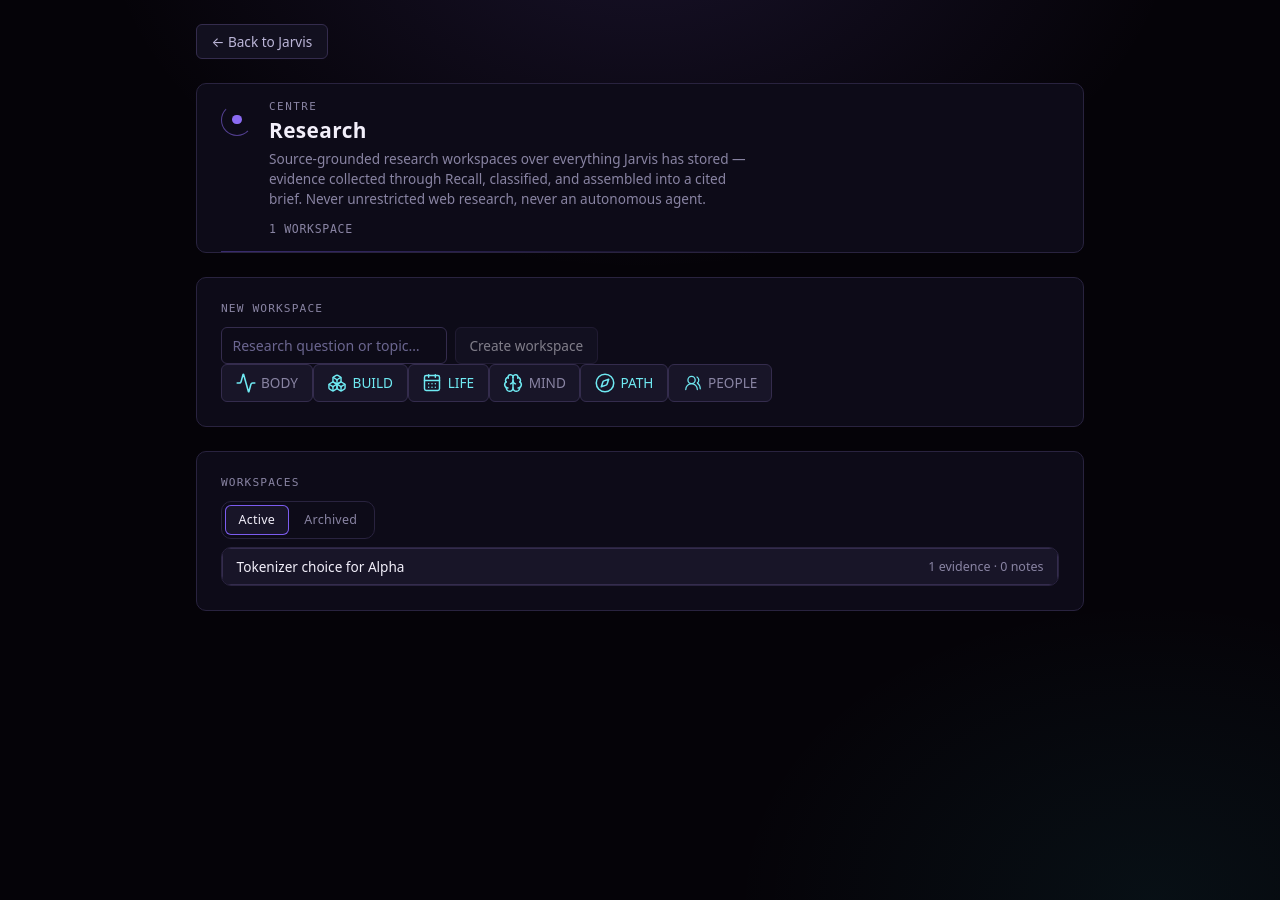
ResearchCentre — workspace detail: evidence › renders the evidence ledger with a classification select and an unavailable source truthfully
The width and height of the screenshot is (1280, 900).
Click the text "Tokenizer choice for Alpha": (321, 566) [237,556,404,576]
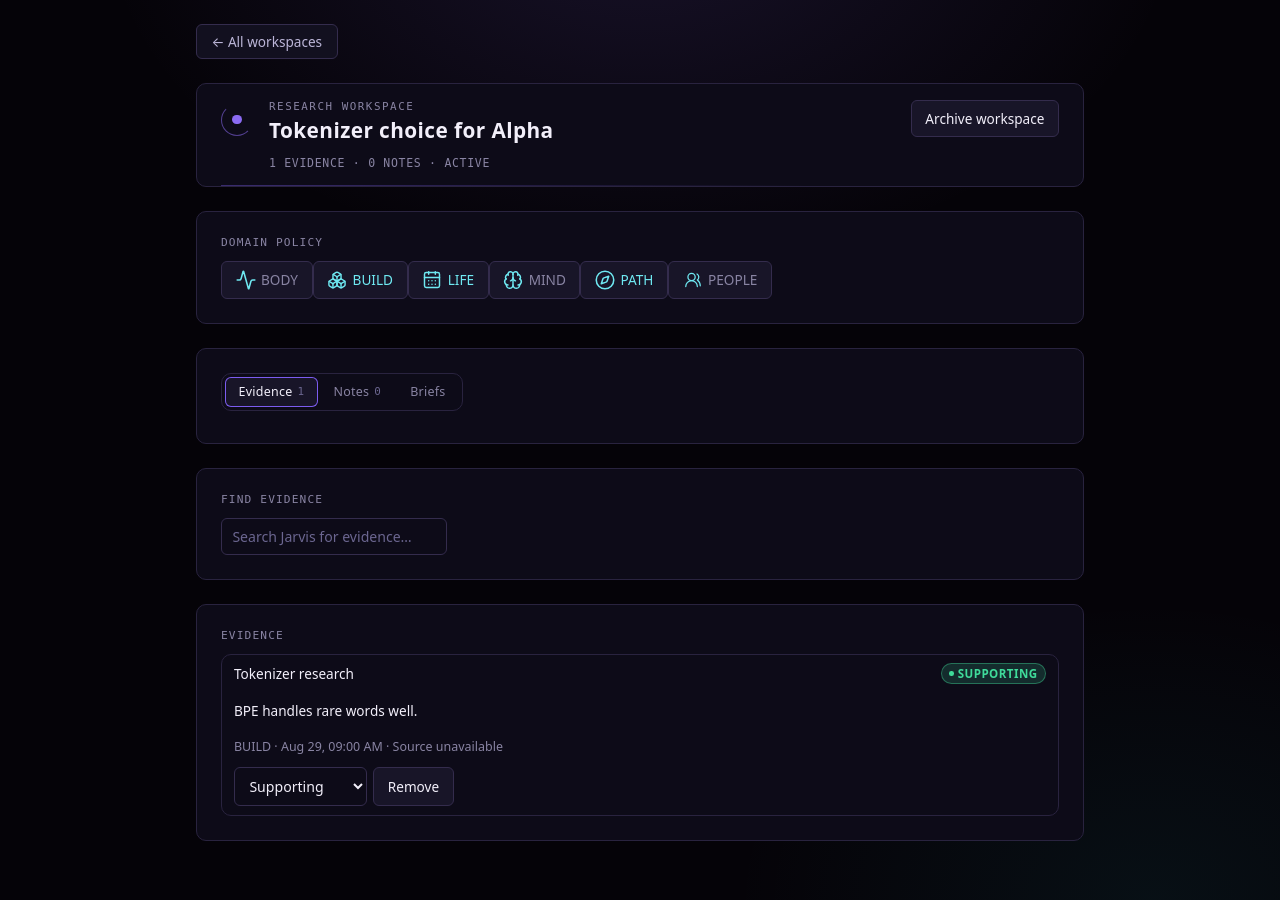
Now the text "Tokenizer research" is shown, box [234,664,354,683]
Now the text "BUILD · Aug 29, 09:00 AM · Source unavailable" is shown, box [234,738,503,755]
Now the dropdown named "classification for tokenizer research" is shown, box [234,767,367,806]
